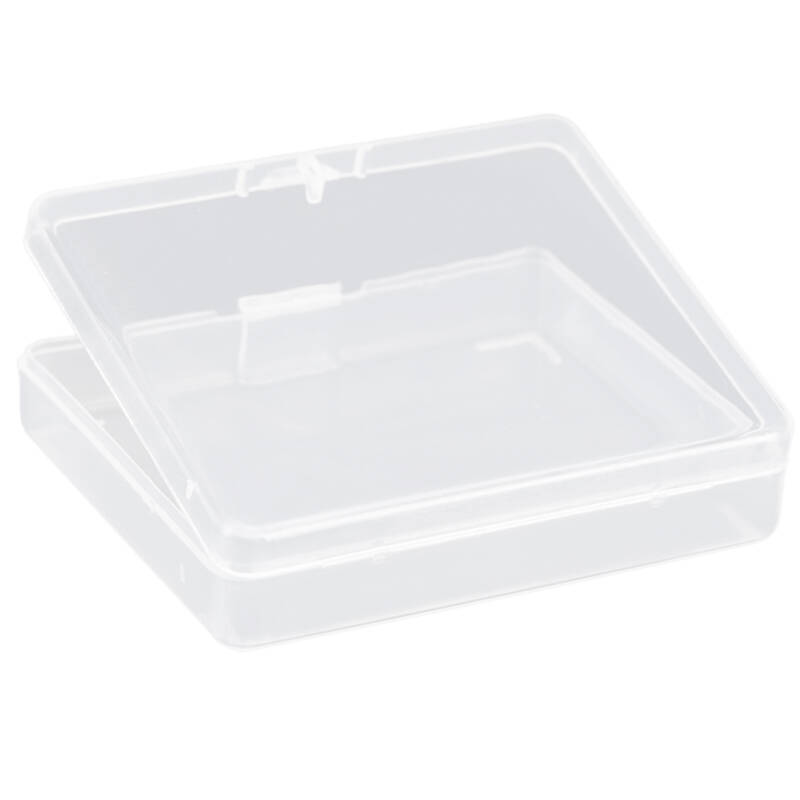PlasticBox: (12, 108, 800, 655)
